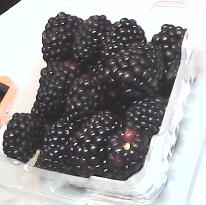berry: (67, 109, 127, 178), (105, 42, 163, 101), (32, 60, 84, 123), (34, 120, 75, 173), (98, 18, 146, 62), (107, 128, 148, 179), (41, 12, 81, 62), (152, 23, 186, 81), (70, 15, 111, 63), (123, 94, 166, 137), (66, 74, 104, 122), (2, 112, 38, 161)
